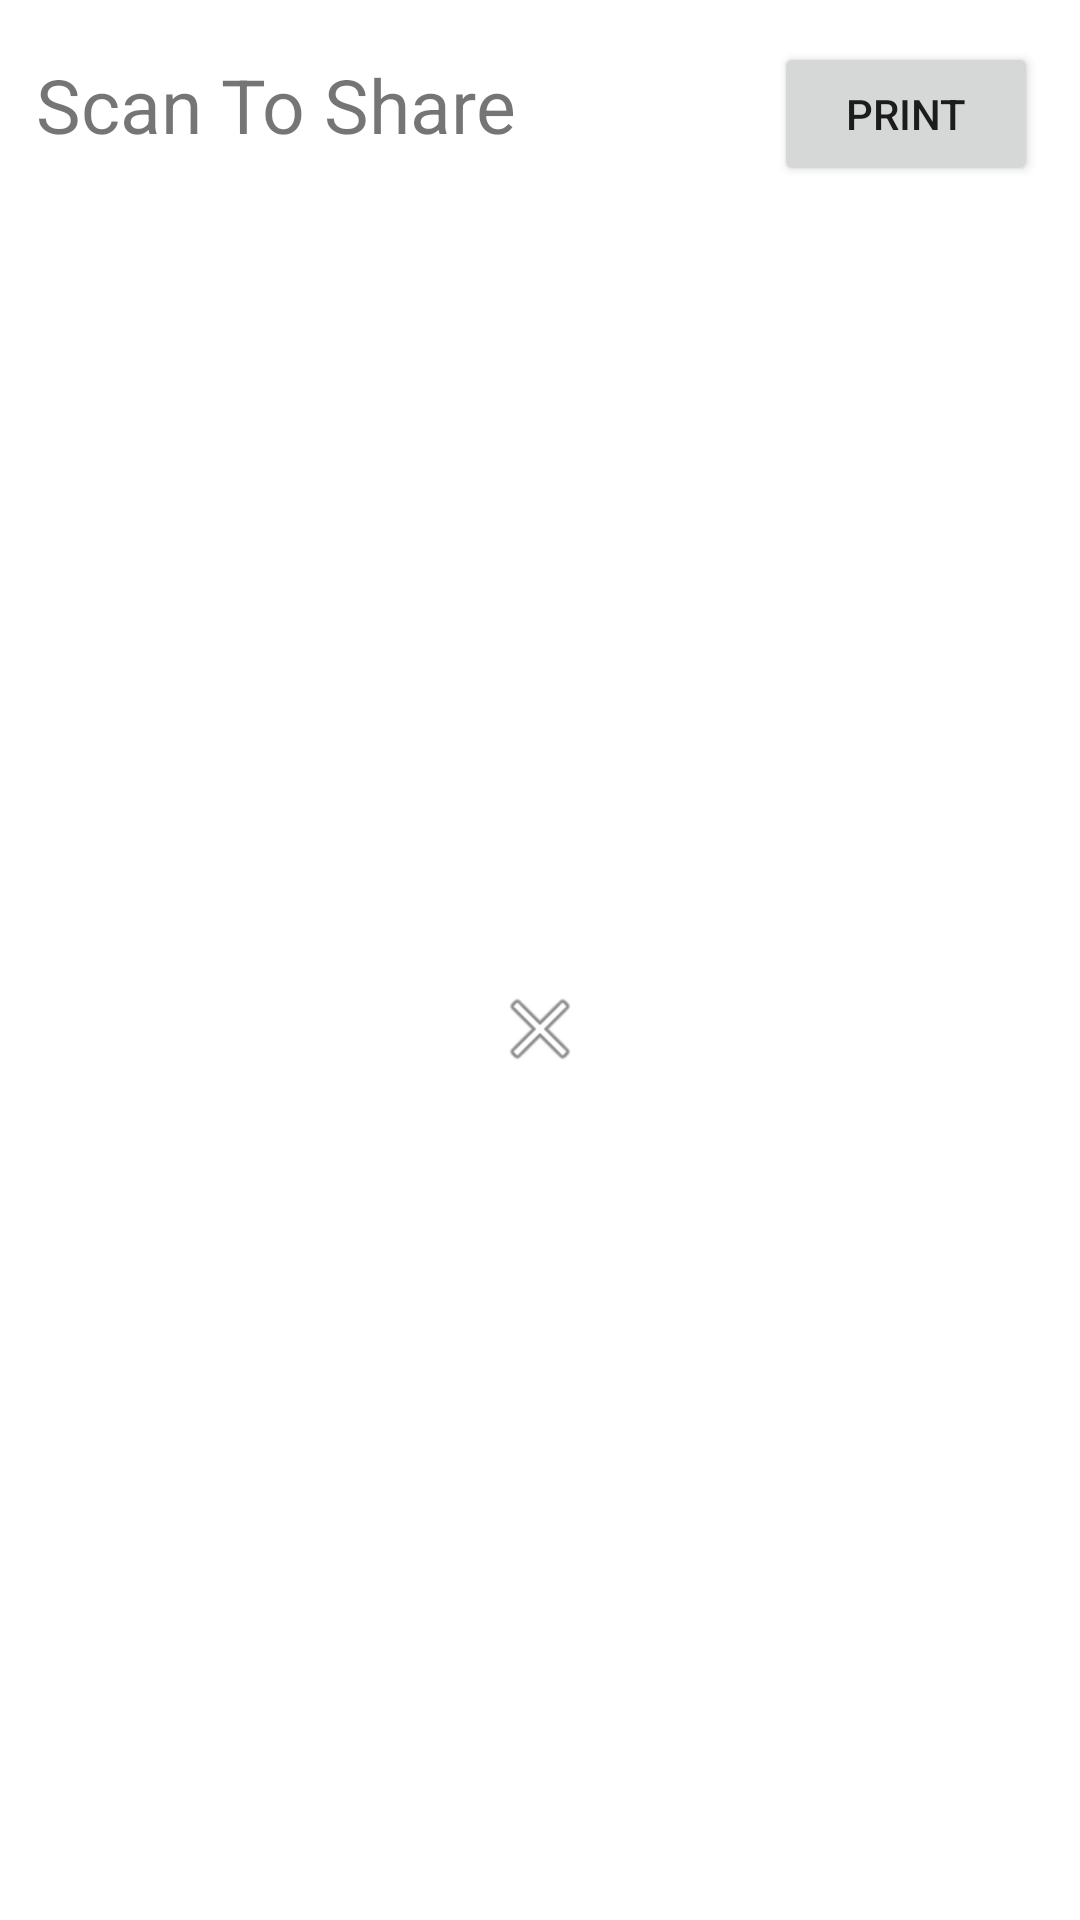

Icons on this 1080*1920 Android screen, each with its box as region(x1, y1, x2, y2):
close clear cancel: region(510, 999, 570, 1059)
